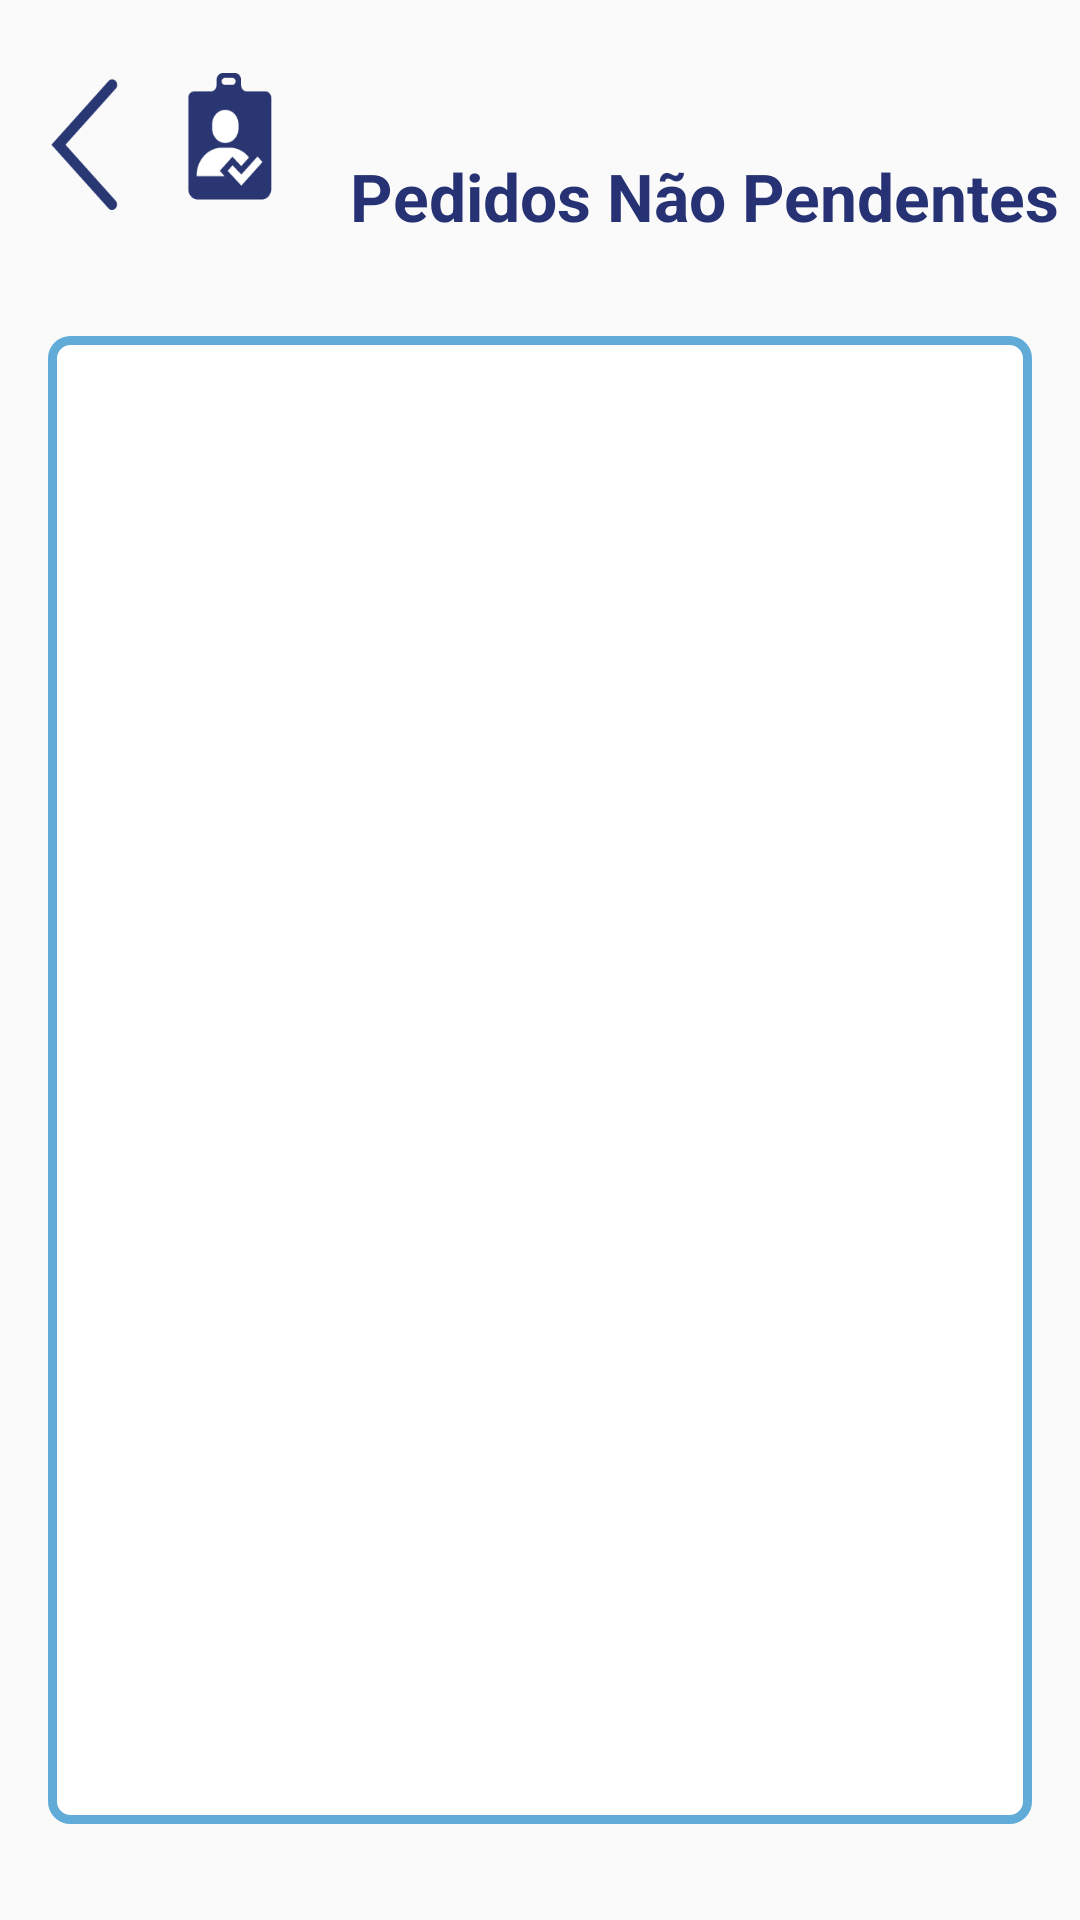

Where to tap for icons on this 1080 x 1920 app screen, as (x=x, y=y):
voltar adm: (x=161, y=141)
